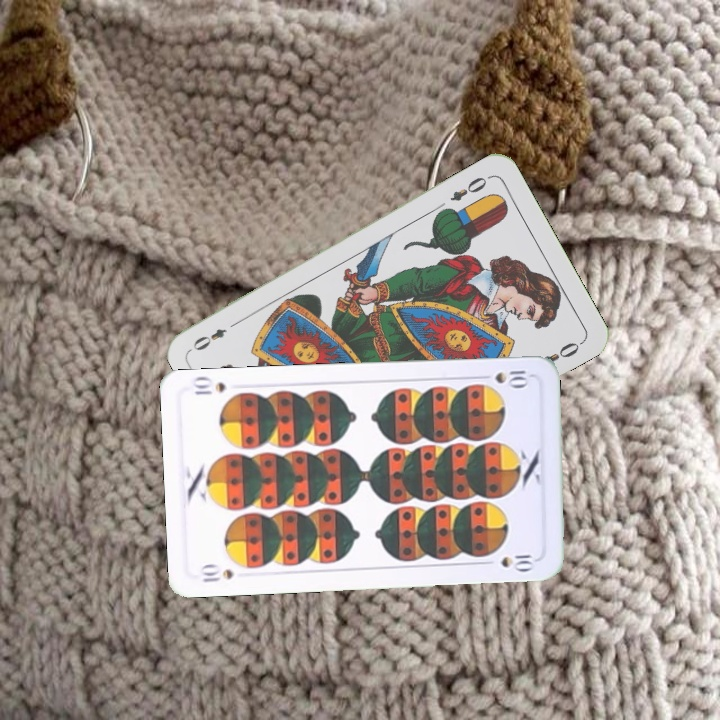EO: (446, 171, 493, 204)
S10: (474, 363, 531, 389), (196, 561, 237, 585)
